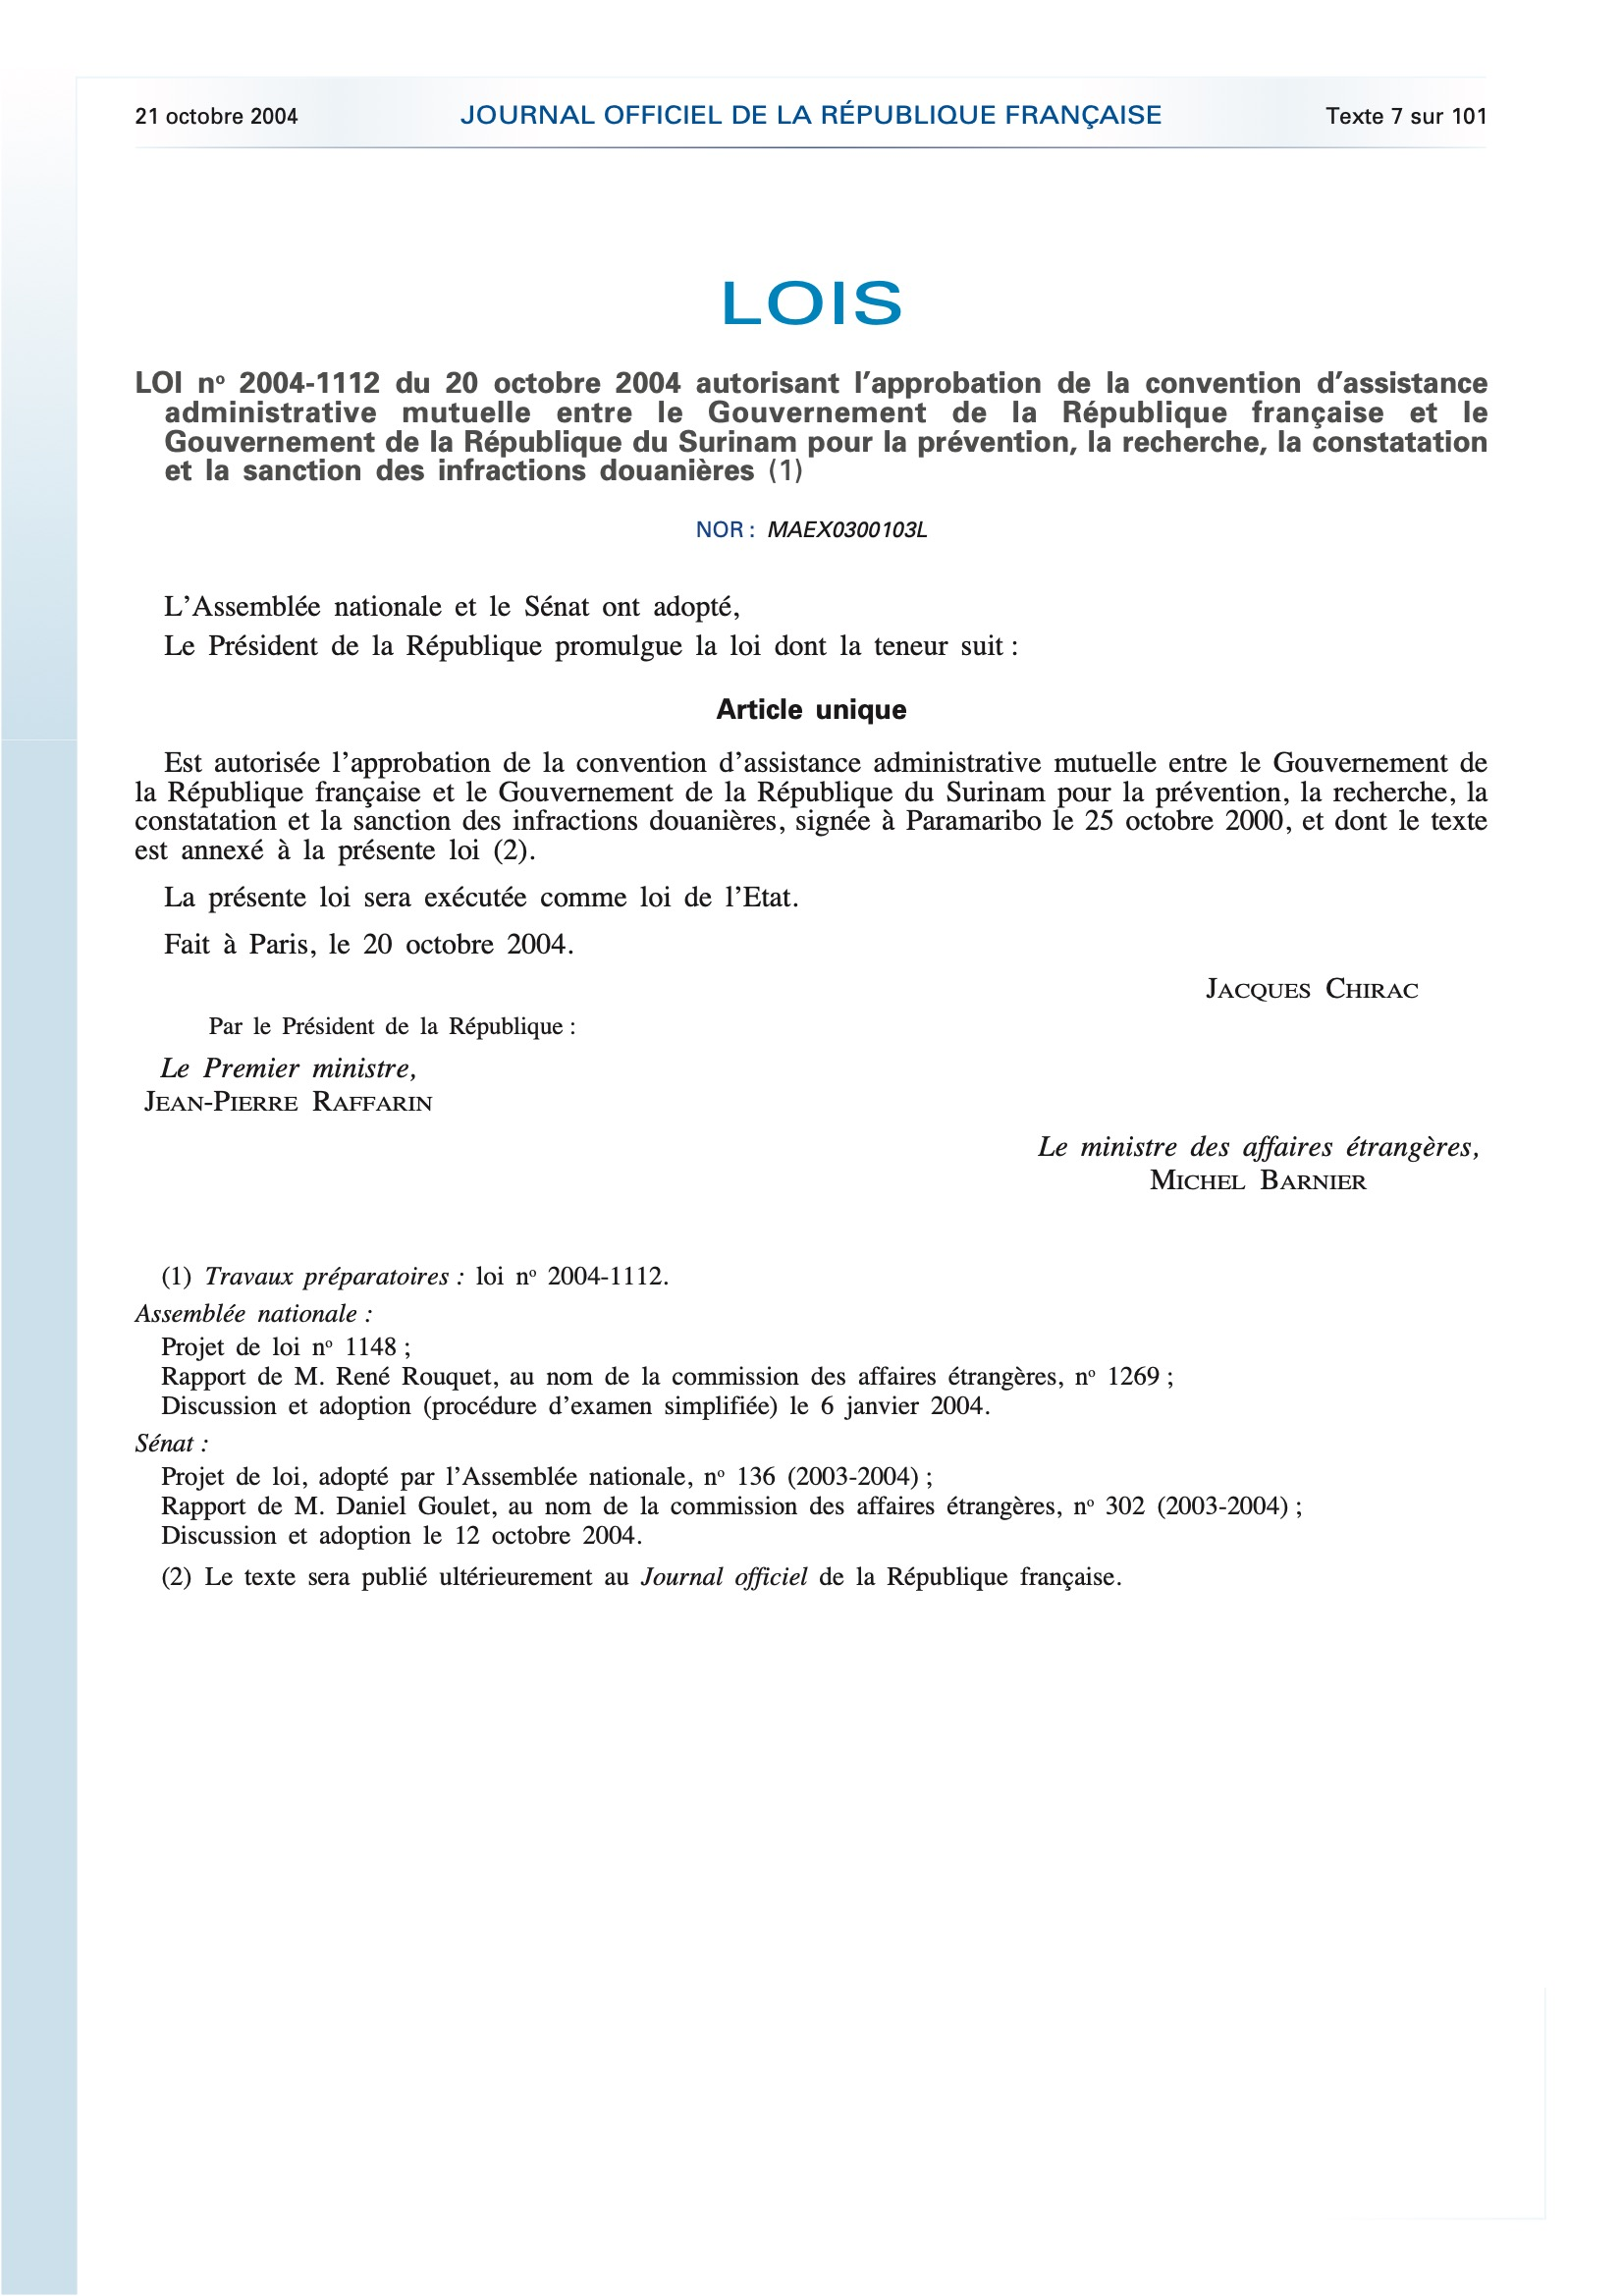MainZone-Date: (126, 94, 308, 138)
MainZone-Head: (125, 358, 1497, 497), (711, 268, 917, 330), (706, 689, 916, 732)
MainZone-Other: (681, 509, 936, 552)
MainZone-P: (131, 742, 1497, 873), (151, 623, 1038, 670), (130, 878, 809, 915), (148, 588, 748, 622), (151, 925, 582, 962), (146, 1006, 590, 1041)
MainZone-Signature: (1024, 1122, 1489, 1209), (133, 1047, 443, 1121), (1194, 964, 1432, 1016)
MarginTextZone-Notes: (116, 1257, 1321, 1558), (137, 1558, 1132, 1601)
StampZone: (451, 88, 1171, 137)
TitlePageZone: (1317, 96, 1494, 137)
